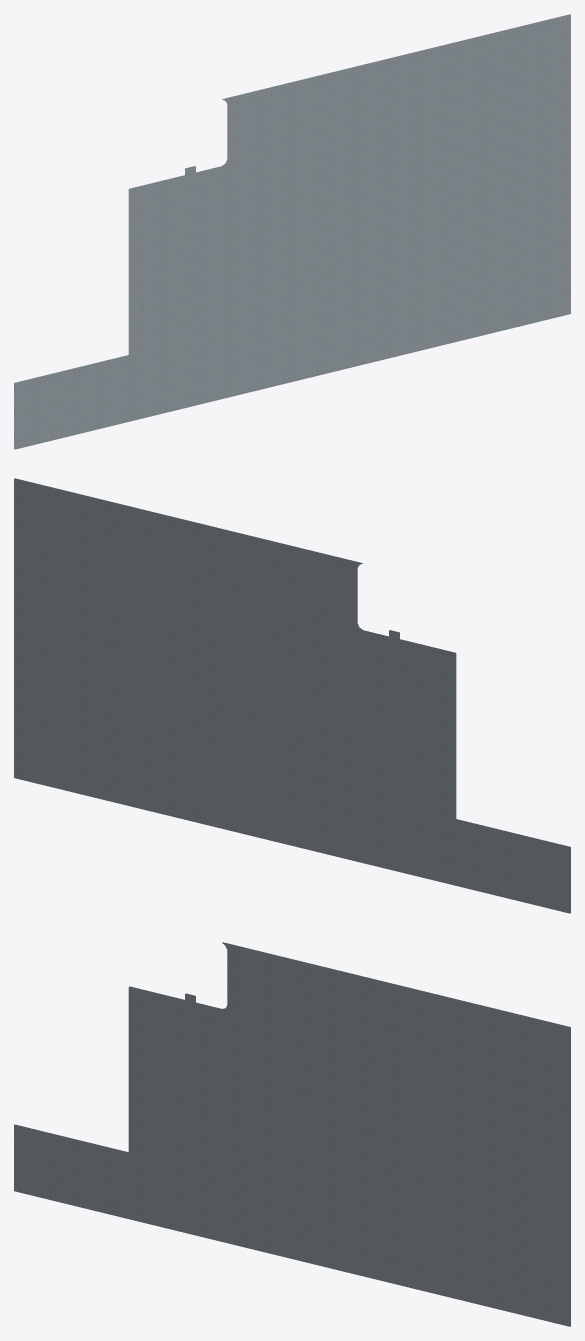
The model's file is floor_9.obj.
3 renders of one model, top to bottom at view 1: azimuth 30°, elevation 25°; view 2: azimuth 150°, elevation 25°; view 3: azimuth 330°, elevation 25°, orthographic.
Visible parts, largest first — view 1: floor_9; view 2: floor_9; view 3: floor_9.
Part boxes in pixels (x1,y1,x2,y2): floor_9: (14, 14, 570, 449); floor_9: (14, 478, 570, 913); floor_9: (14, 942, 570, 1326).
Size of the model in its own units: 47.85 by 24.6 by 0.1.
Materials: 1 (1 with a texture image).
